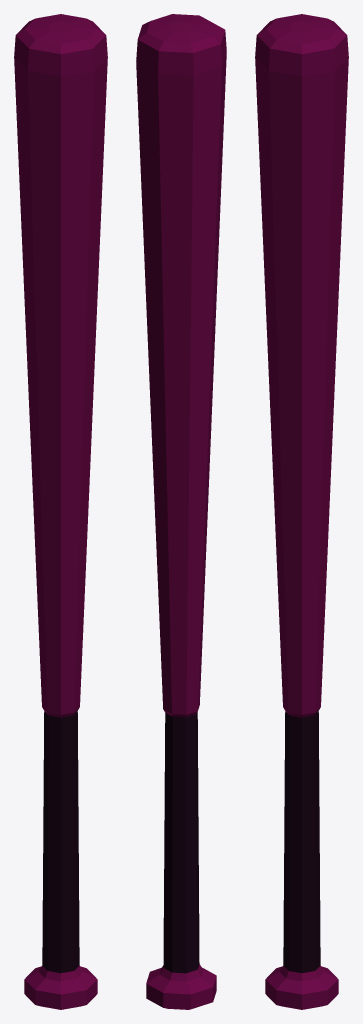
The model's file is BaseballBat_01.fbx.
3 renders of one model, left to right at view 1: azimuth 90°, elevation 25°; view 2: azimuth 150°, elevation 25°; view 3: azimuth 270°, elevation 25°, orthographic.
Parts seen in each view (by area): view 1: BaseballBat_01; view 2: BaseballBat_01; view 3: BaseballBat_01.
Part boxes in pixels (x1,y1,x2,y2): BaseballBat_01: (14, 14, 107, 1009); BaseballBat_01: (136, 14, 226, 1009); BaseballBat_01: (255, 14, 348, 1009).
Size of the model in its own units: 0.8682 by 9.92 by 0.8682.
